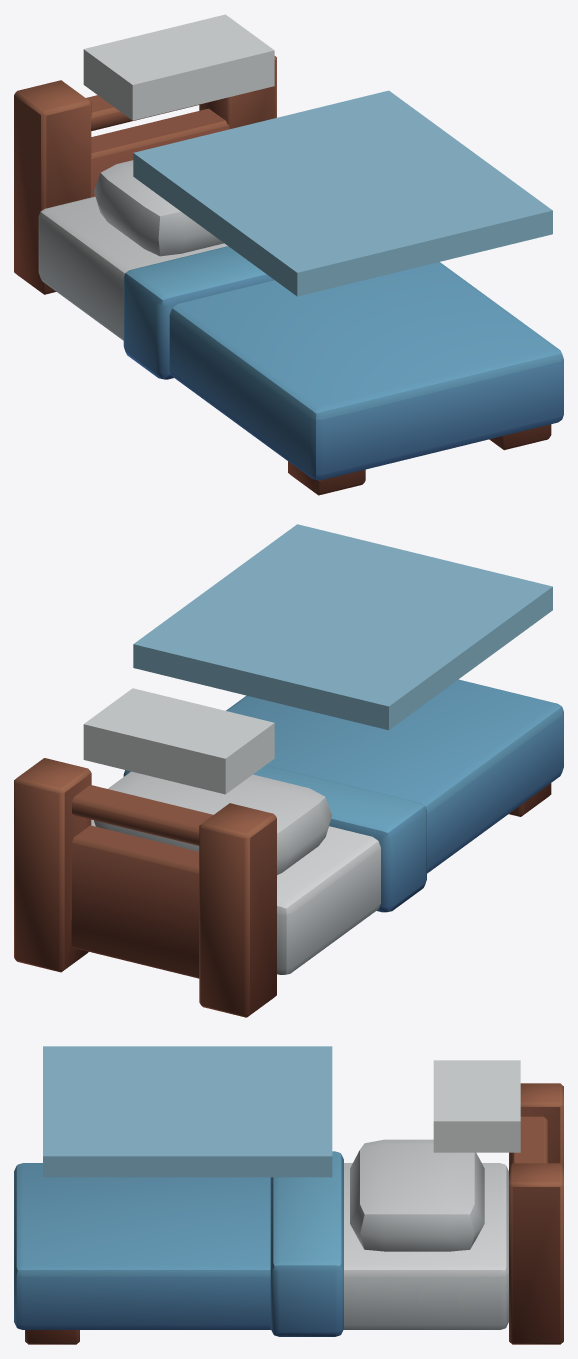
File: decor_1.fbx
3 renders of one model, top to bottom at view 1: azimuth 30°, elevation 25°; view 2: azimuth 150°, elevation 25°; view 3: azimuth 270°, elevation 25°, orthographic. The views are drawn at different scales.
Visible parts, largest first — view 1: decor_1; view 2: decor_1; view 3: decor_1.
Part boxes in pixels (x1=…): decor_1: x1=14, y1=14, x2=563, y2=495; decor_1: x1=14, y1=524, x2=563, y2=1017; decor_1: x1=14, y1=1046, x2=563, y2=1344.
Bounding box in the file's own units: 0.95 × 0.78 × 1.9.
